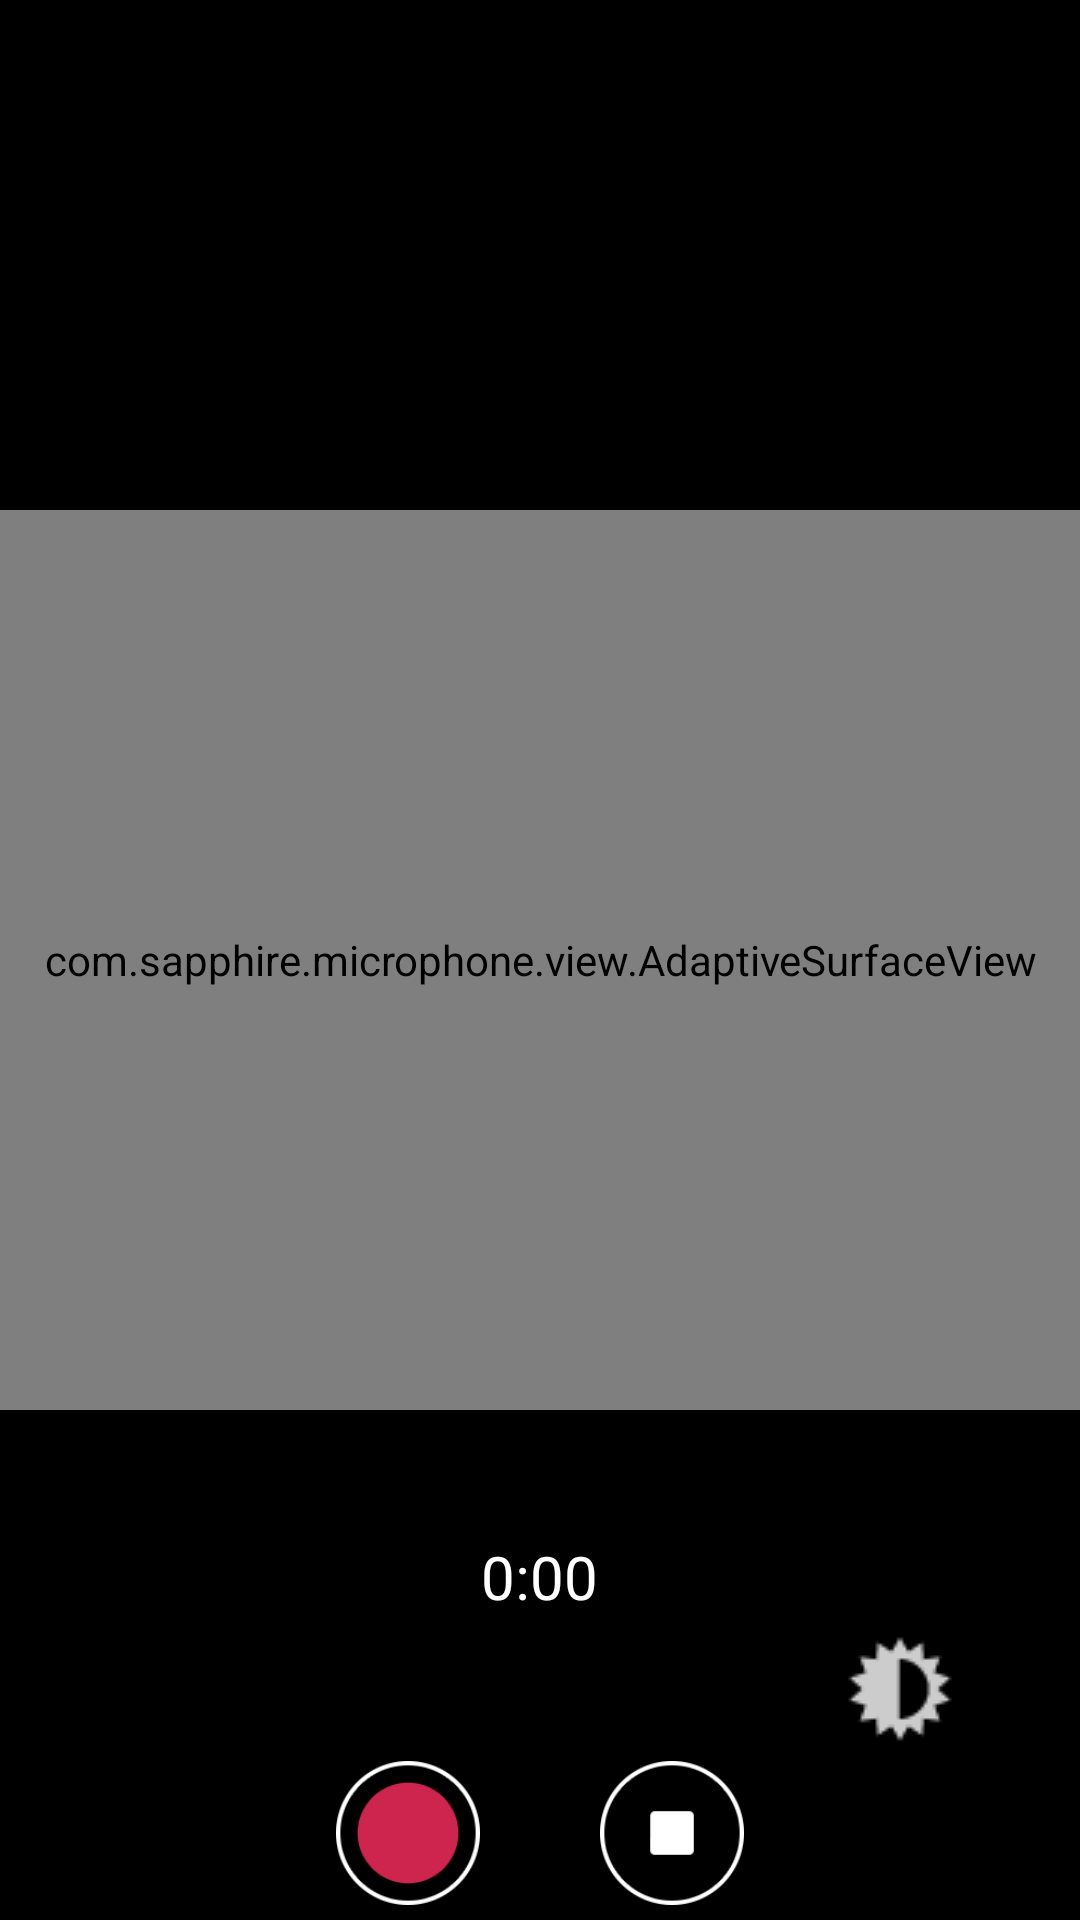

Where icons sit on this 1080×1920 app screen, as (x1, y1, x2, y2):
exposure: (849, 1637, 951, 1741)
record: (336, 1761, 480, 1905)
stop: (600, 1761, 744, 1905)
